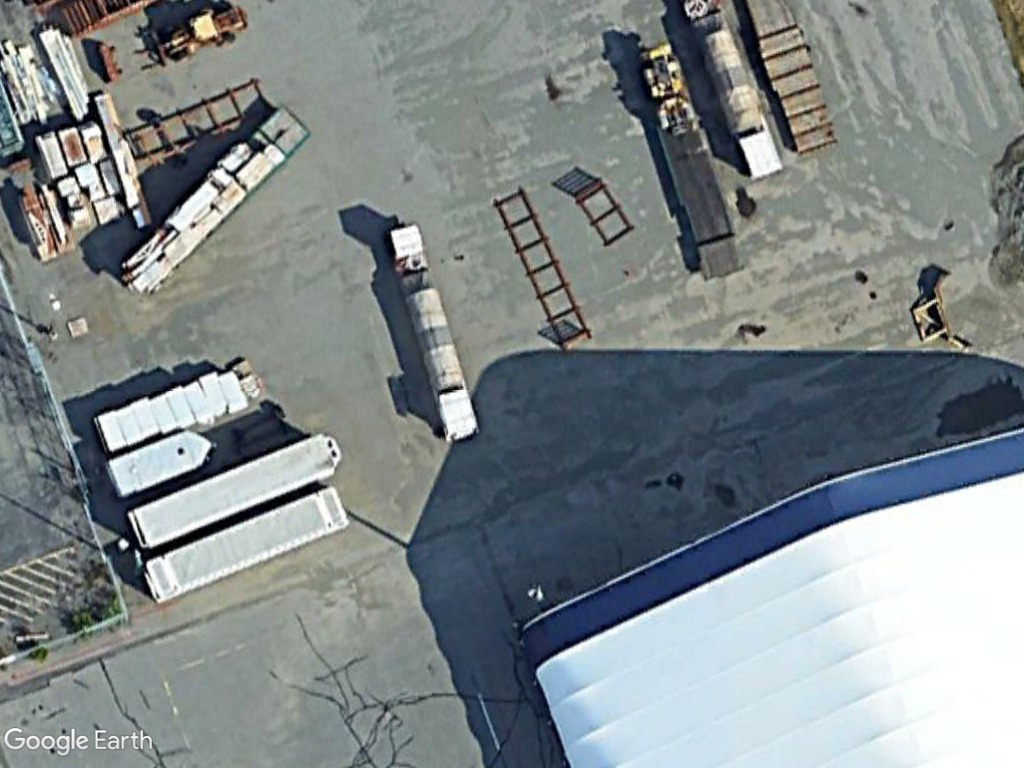longvehicle: (136, 481, 352, 609), (120, 429, 344, 550)
